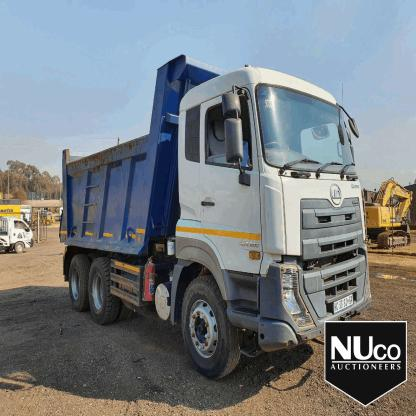dump_truck: (52, 47, 374, 380)
